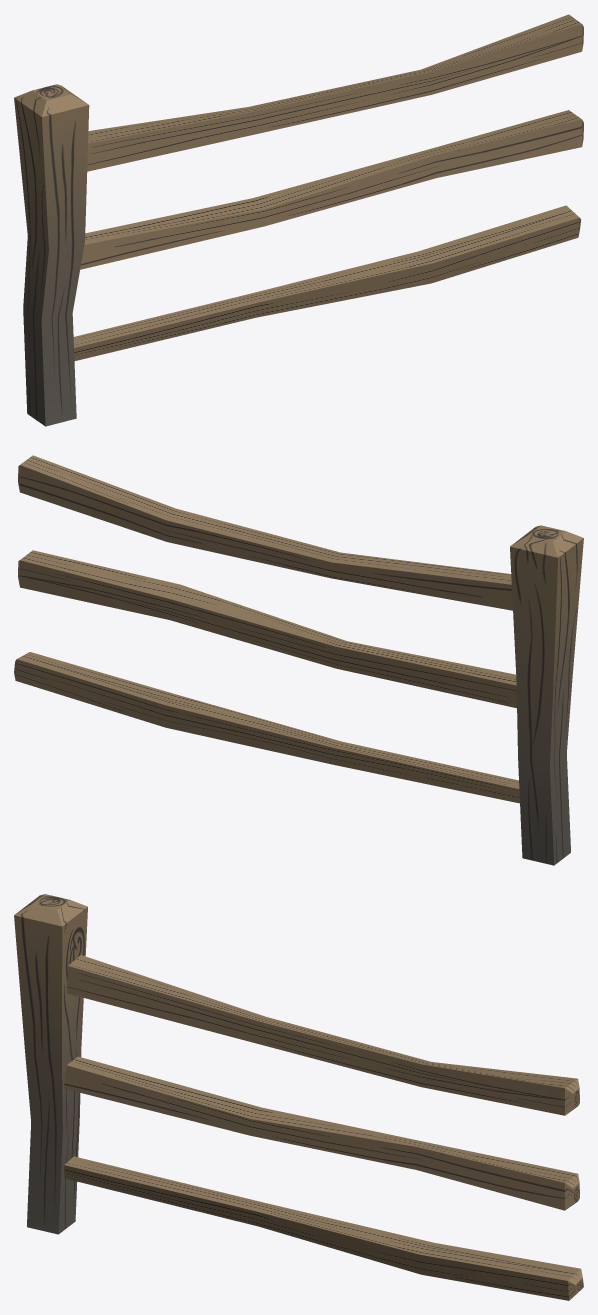
The model's file is ModularFence.fbx.
3 views of the same model, one above another, from view 1: azimuth 30°, elevation 25°; view 2: azimuth 150°, elevation 25°; view 3: azimuth 330°, elevation 25° (orthographic).
Visible parts, largest first — view 1: pCylinder44; view 2: pCylinder44; view 3: pCylinder44.
Part boxes in pixels (x1,y1,x2,y2): pCylinder44: [14, 14, 583, 426]; pCylinder44: [14, 455, 583, 865]; pCylinder44: [14, 894, 583, 1300].
Bounding box in the file's own units: 2.12 × 1.19 × 0.1826.
